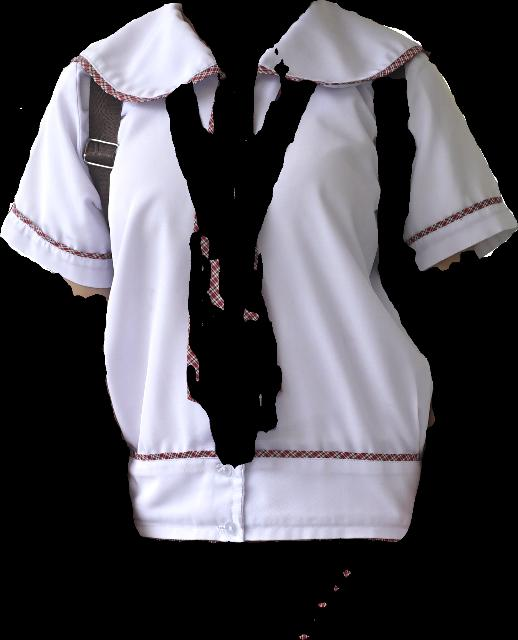pologirl: (0, 0, 517, 543)
